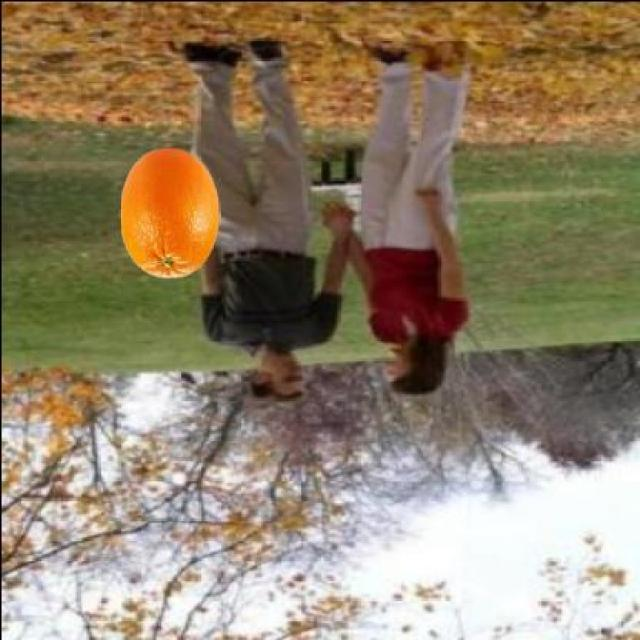Orange: (117, 145, 220, 280)
